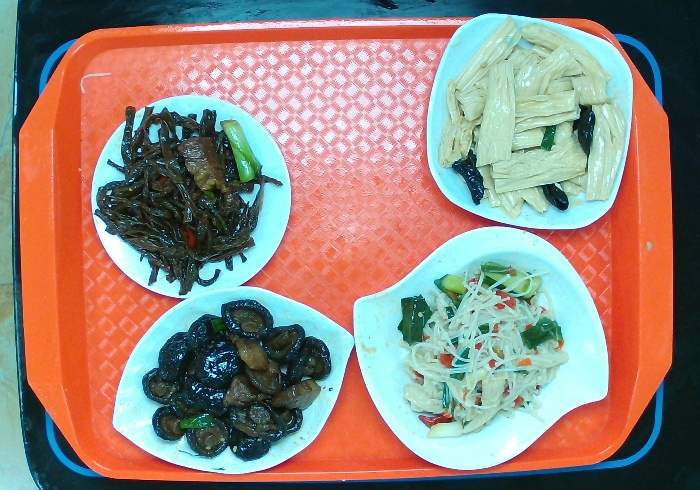RJxy-Da_Du_Pan: (108, 282, 357, 487)
RJxy-Shuang_Jiao_Pan: (348, 221, 611, 475)
RJxy-Si_Fang_Wan: (419, 8, 640, 232)
RJxy-Xiao_Yuan_Die: (89, 89, 295, 302)
